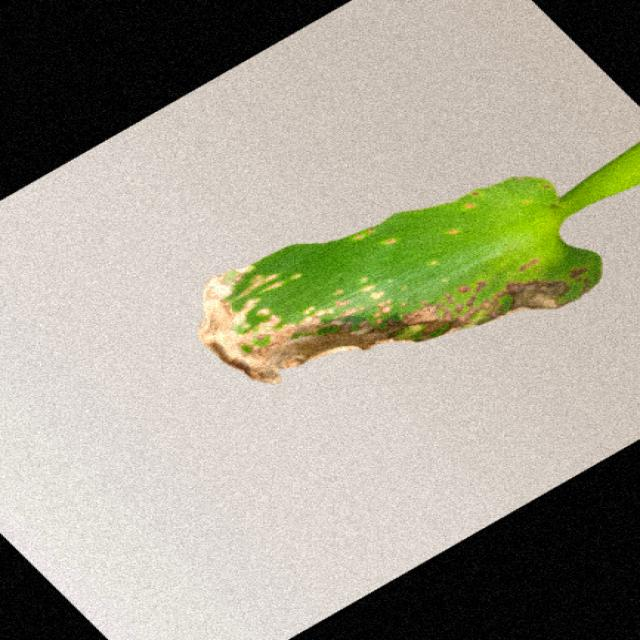daun berpenyakit bercak: (200, 146, 638, 382)
